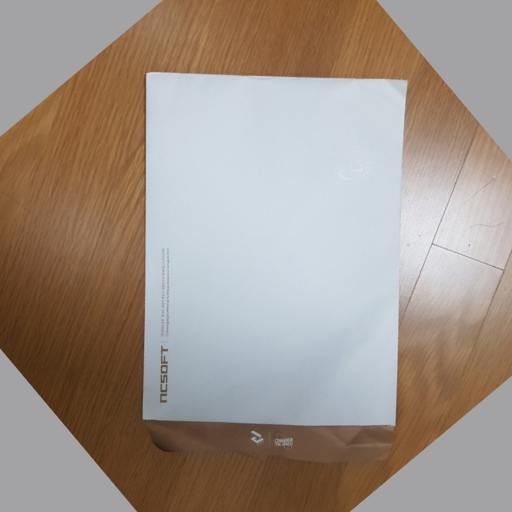Paper_2: (136, 58, 416, 470)
